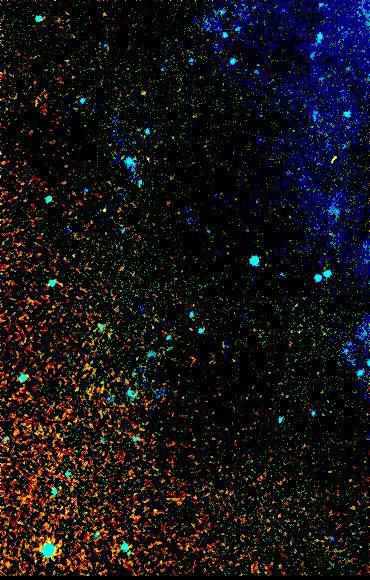star: (130, 79, 160, 109)
